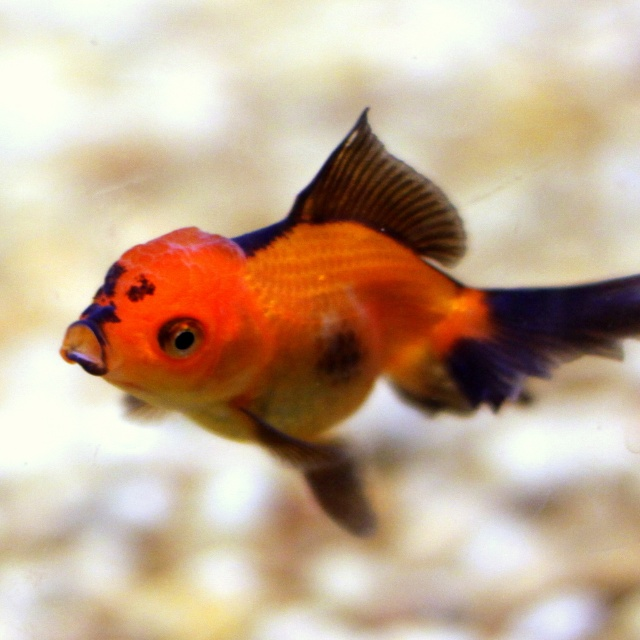Goldfish: (58, 112, 640, 532)
